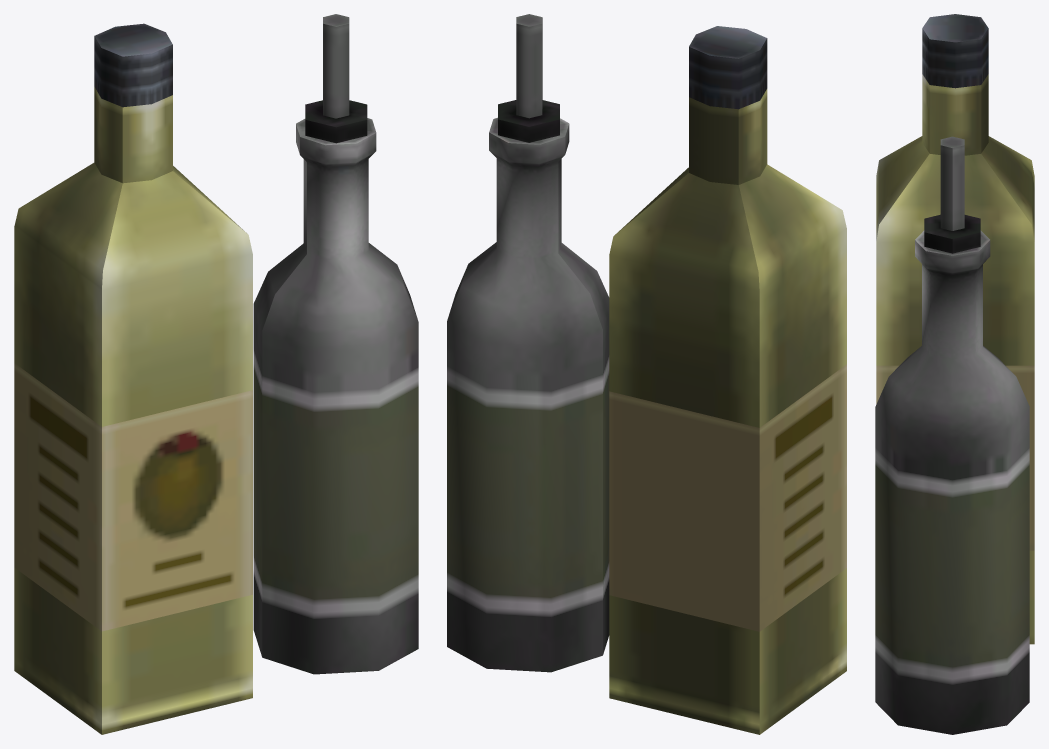
The model's file is aceite.fbx.
3 renders of one model, left to right at view 1: azimuth 30°, elevation 25°; view 2: azimuth 150°, elevation 25°; view 3: azimuth 270°, elevation 25°, orthographic. The views are drawn at different scales.
Parts seen in each view (by area): view 1: s4studio_mesh_2; view 2: s4studio_mesh_2; view 3: s4studio_mesh_2.
Part boxes in pixels (bbox=[...]): s4studio_mesh_2: bbox=[14, 14, 418, 734]; s4studio_mesh_2: bbox=[447, 14, 846, 734]; s4studio_mesh_2: bbox=[875, 14, 1034, 734].
Bounding box in the file's own units: 22.43 × 39.59 × 9.75.
Materials: 2 (2 with a texture image).
